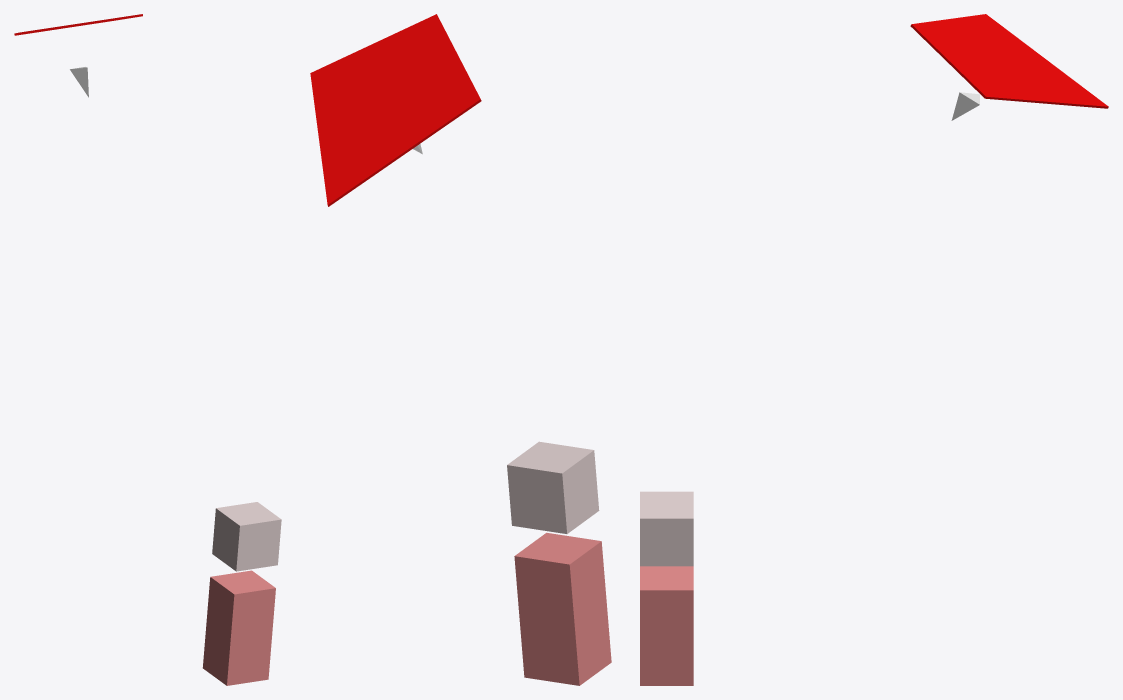
Rendered from KiteKid.fbx.
3 renders of one model, left to right at view 1: azimuth 30°, elevation 25°; view 2: azimuth 150°, elevation 25°; view 3: azimuth 270°, elevation 25°, orthographic. The views are drawn at different scales.
Visible parts, largest first — view 1: KiteKidMesh; view 2: KiteKidMesh, Kitebody; view 3: KiteKidMesh, Kitebody.
Part boxes in pixels (bbox=[...]): KiteKidMesh: bbox=[202, 502, 281, 685]; KiteKidMesh: bbox=[507, 441, 611, 685]; Kitebody: bbox=[310, 14, 481, 206]; KiteKidMesh: bbox=[640, 491, 693, 685]; Kitebody: bbox=[910, 14, 1108, 108].
Bounding box in the file's own units: 92.29 × 397 × 262.
